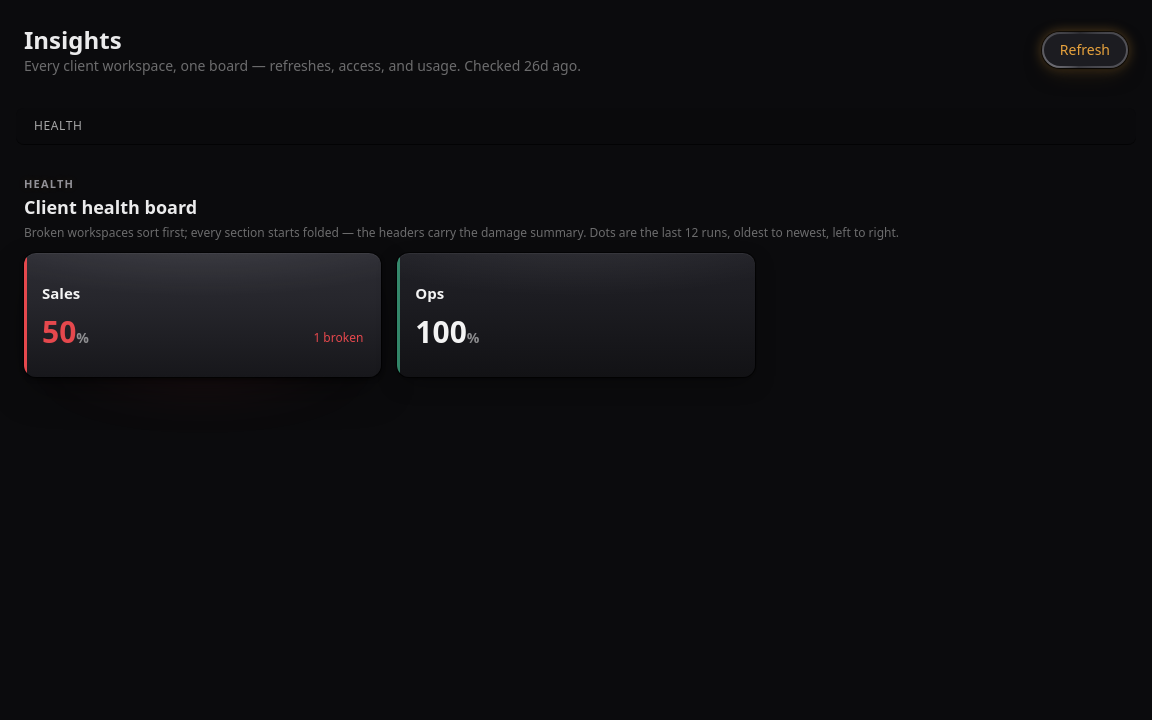
Test: InsightsPage — Luce board › failed dataset dots carry short Failed · time · errorCode tooltips — the REASON lives on the row (owner v6)
The image size is (1152, 720).
Click the button with aria-label "Open Sales details" at (61, 293), box [24,252,381,376]
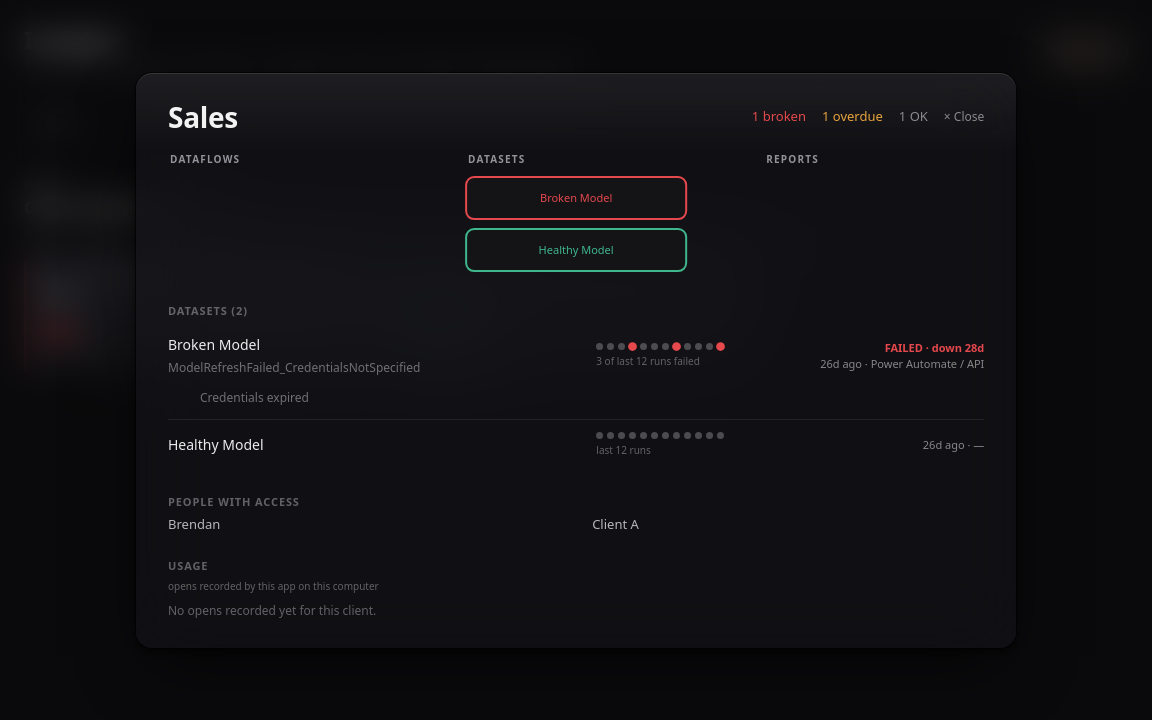
Result: the number of elements titled "Failed · 6/9/2026, 02:00 AM · ModelRefreshFailed_Credentials" is 3 at [628,342,637,351]; [672,342,681,351]; [716,342,725,351]
Result: the 1st element titled "OK · " is shown at [596,343,603,350]
